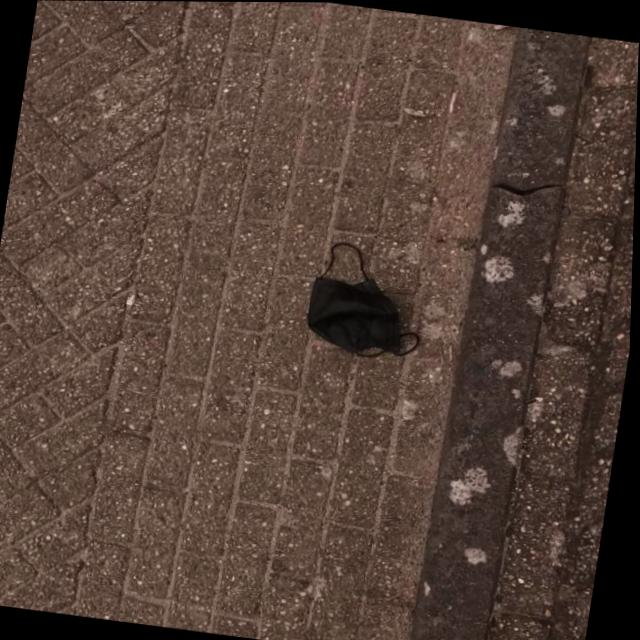Mask: (298, 239, 434, 368)
